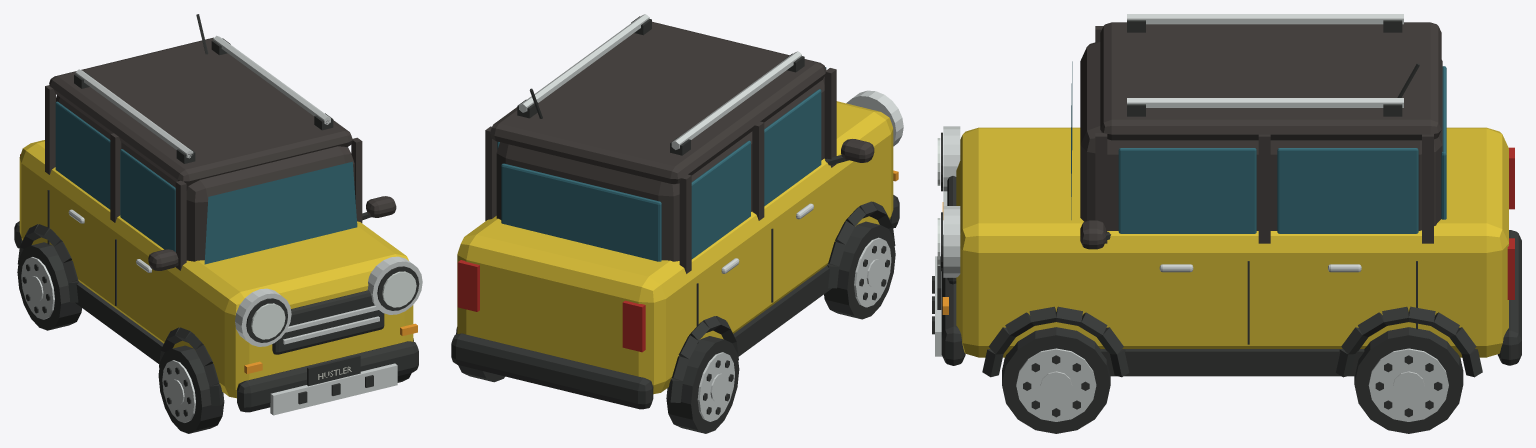
3 renders of one model, left to right at view 1: azimuth 30°, elevation 25°; view 2: azimuth 150°, elevation 25°; view 3: azimuth 270°, elevation 25°, orthographic. The views are drawn at different scales.
Parts seen in each view (by area): view 1: Body, Wheel_FL, Wheel_RL, Headlight_L, Headlight_R; view 2: Body, Wheel_RL, Wheel_FL, Taillight_L, Taillight_R; view 3: Body, Wheel_RR, Wheel_FR.
Part boxes in pixels (x1,y1,x2,y2): Body: (14, 14, 422, 415); Wheel_FL: (158, 345, 224, 433); Wheel_RL: (17, 242, 81, 330); Headlight_L: (251, 303, 285, 339); Headlight_R: (382, 271, 416, 307); Body: (451, 14, 903, 409); Wheel_RL: (666, 336, 739, 433); Wheel_FL: (824, 221, 895, 319); Taillight_L: (622, 300, 645, 352); Taillight_R: (457, 260, 479, 311); Body: (932, 14, 1521, 377); Wheel_RR: (1354, 327, 1463, 433); Wheel_FR: (1002, 327, 1110, 433).
Bounding box in the file's own units: 2.19 × 2.34 × 3.68.
